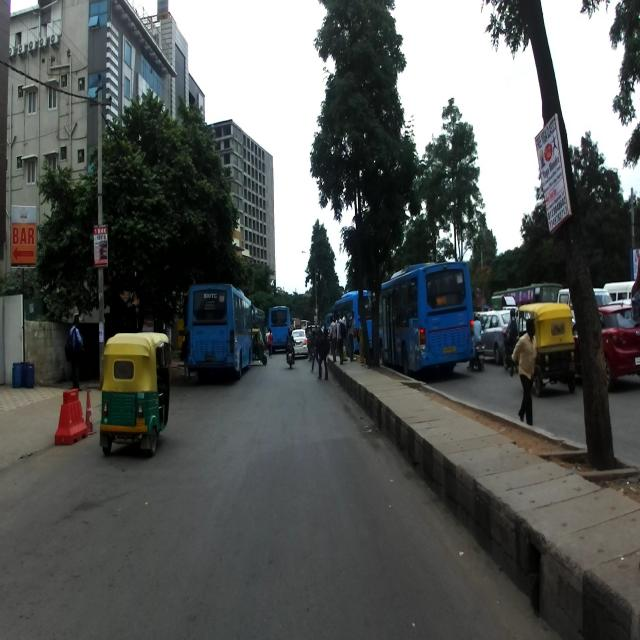autorickshaw: (100, 330, 172, 455), (515, 301, 576, 397)
car: (571, 284, 639, 394)
